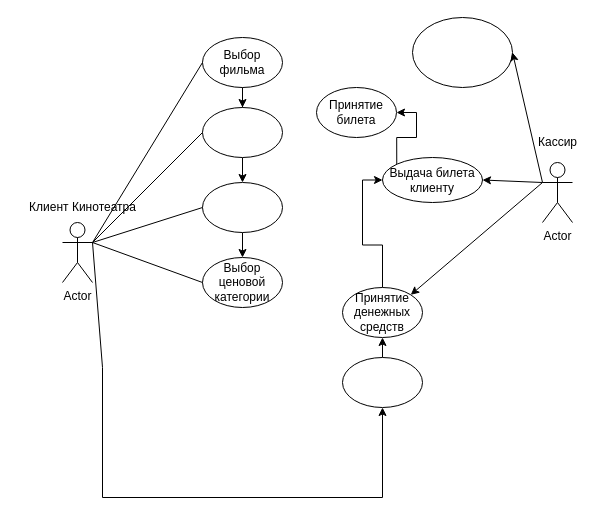
This 604x523 diagram has some shape labels left out. Here are the shapes that lost their labels. From the top down, the centre of each, then its label:
pixel 462 52: Отметить информацию о продаже билета в БД
pixel 242 132: Выбор свободного места
pixel 242 207: Выбор времени сеанса
pixel 382 382: Оплата билета
